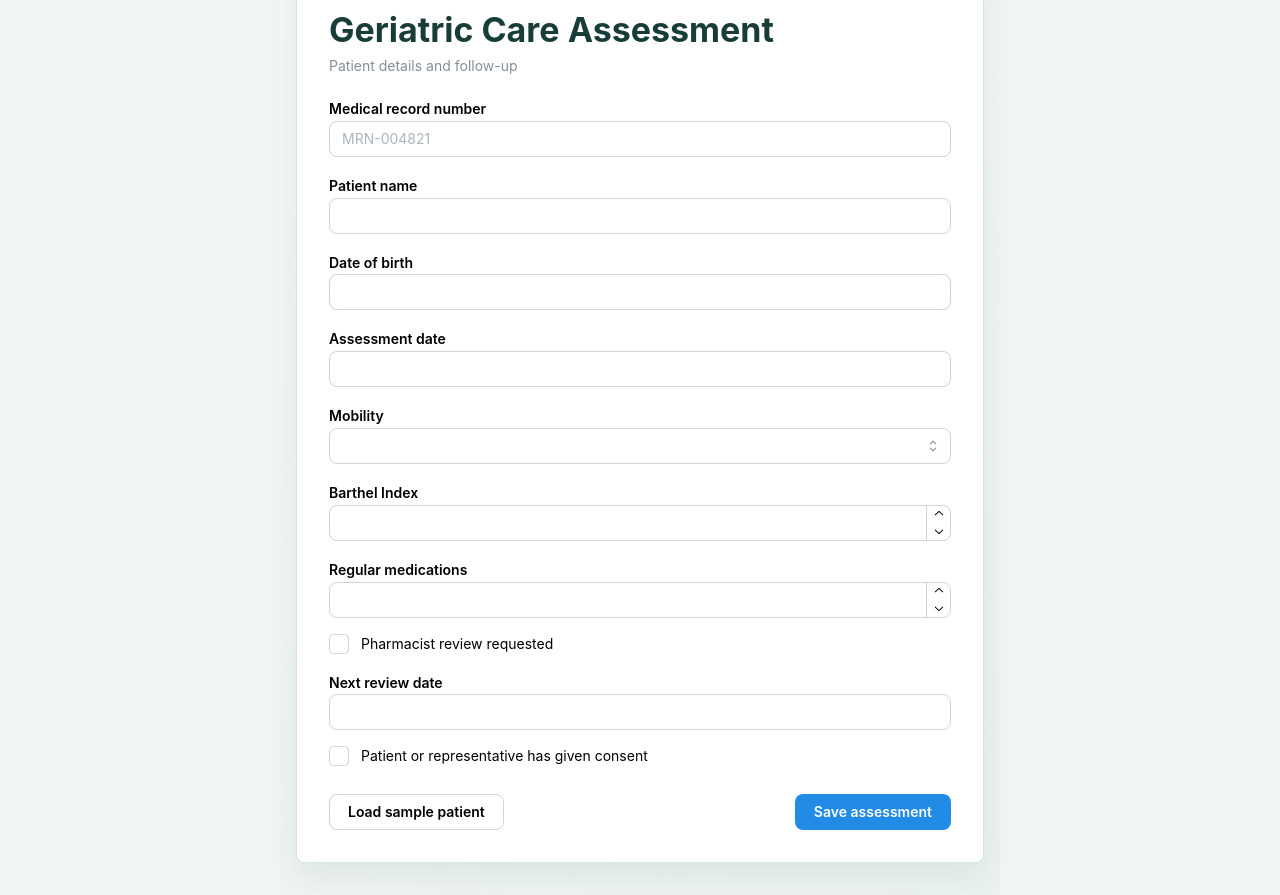
loads the sample patient and submits the parsed values
The width and height of the screenshot is (1280, 895).
(page scrolled)
Click the button "Load sample patient" at (416, 812), box [329,794,504,830]
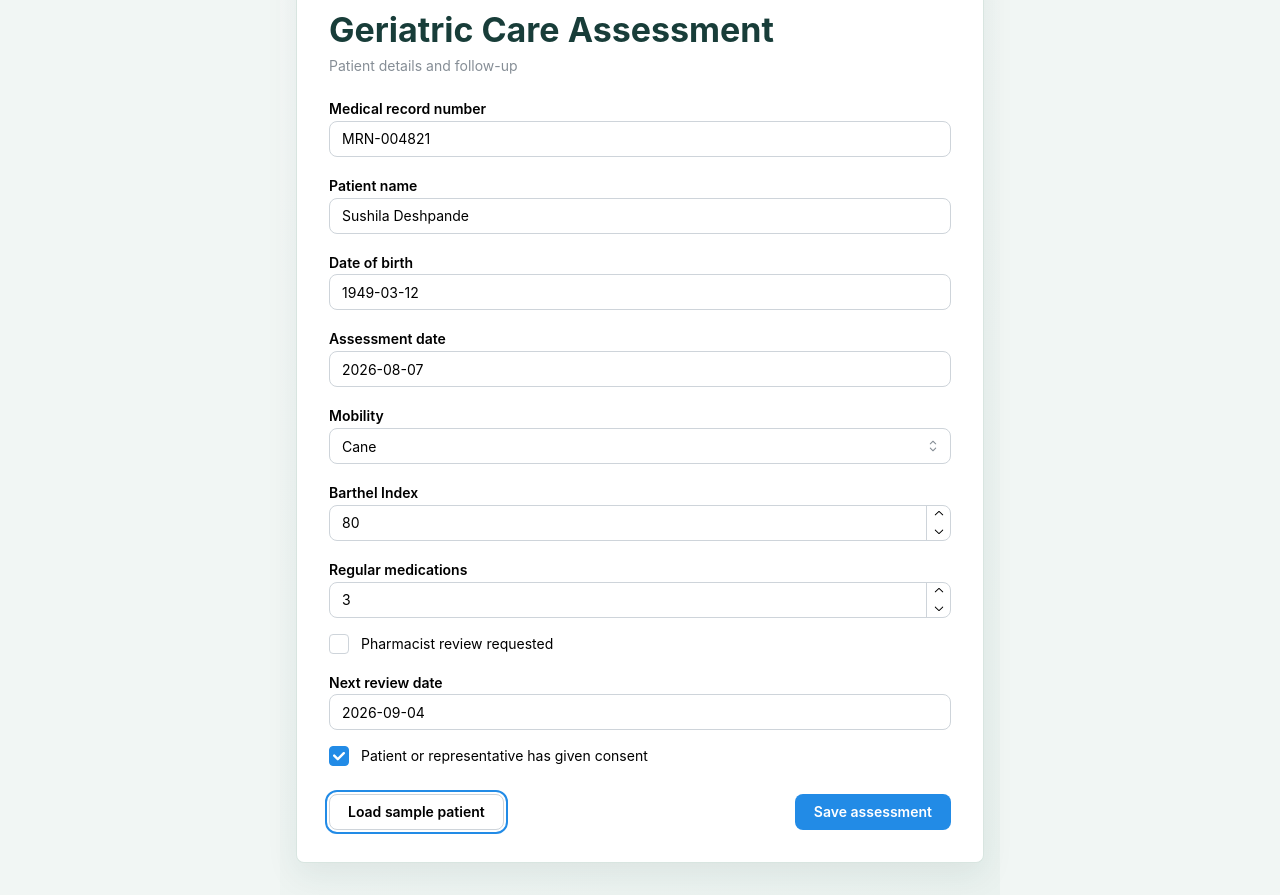
Click the button "Save assessment" at (873, 812), box [795,794,951,830]
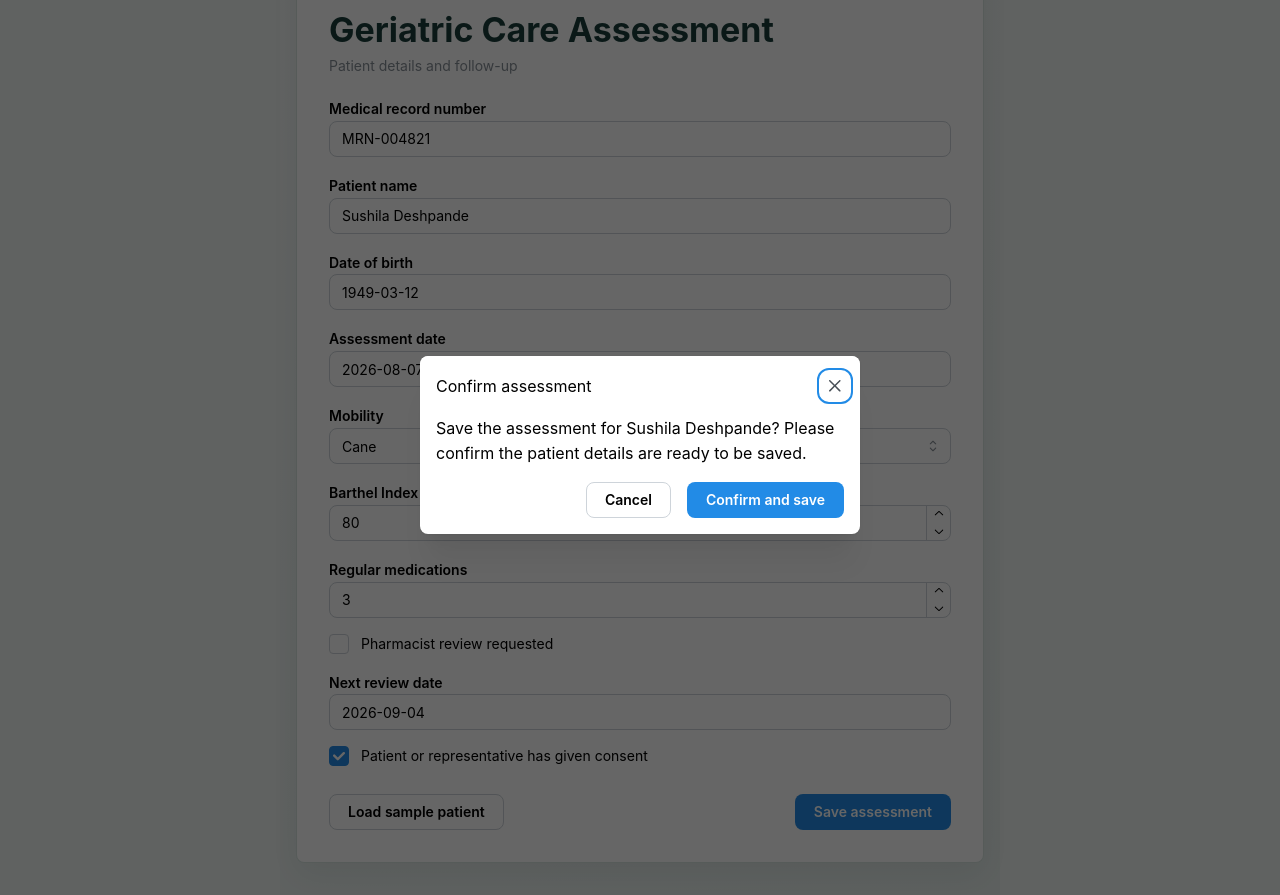
Now the dialog shows "Confirm assessment", box [436,376,592,396]
Click the button "Confirm and save" at (766, 500), box [687,482,844,518]
(page scrolled)
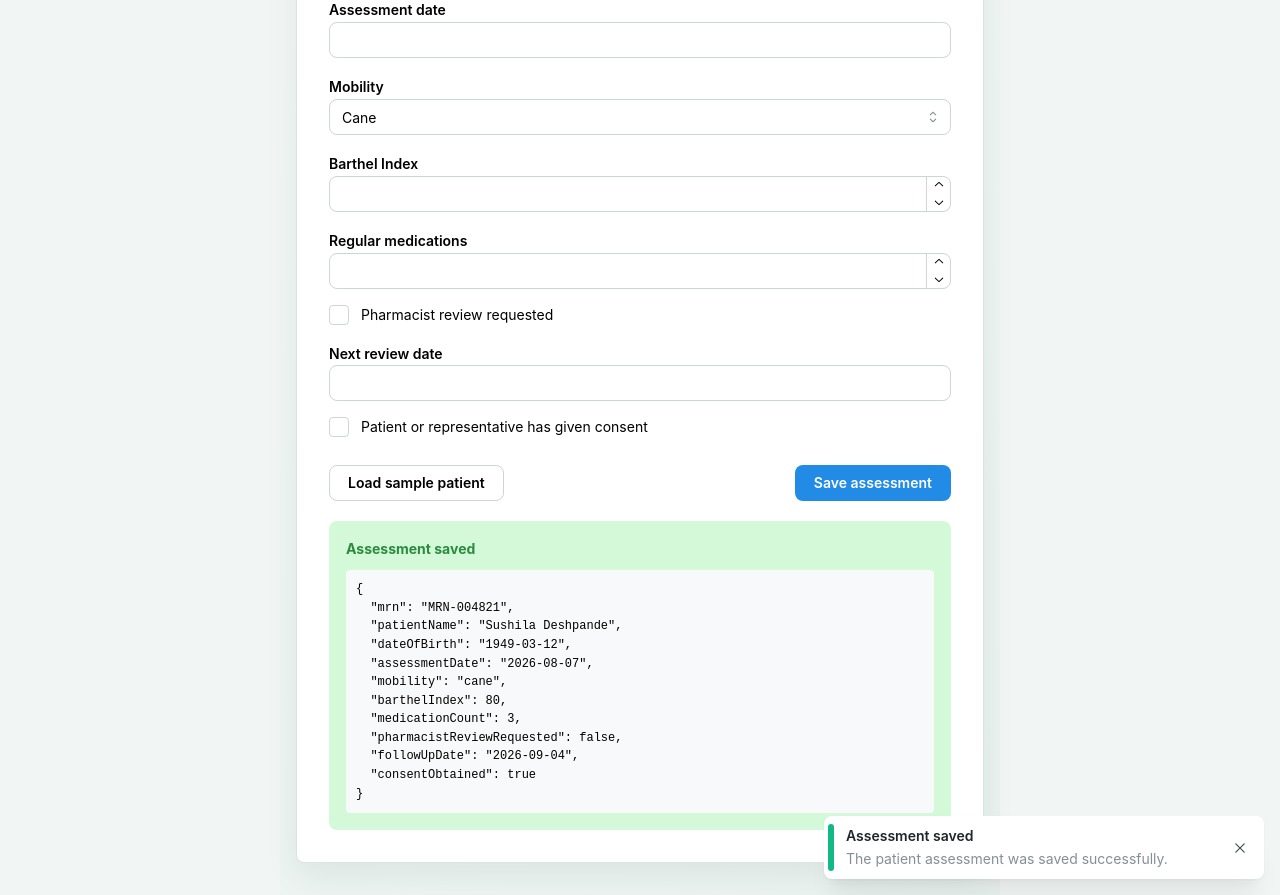
Now the text "The patient assessment was saved successfully." is shown, box [846,849,1216,869]
Now the text "Sushila Deshpande" is shown, box [356,582,622,801]
